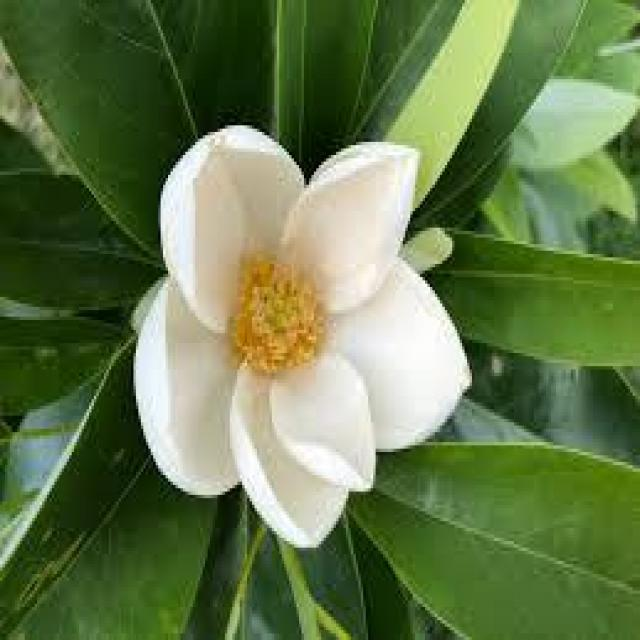organic waste: (132, 122, 466, 534)
